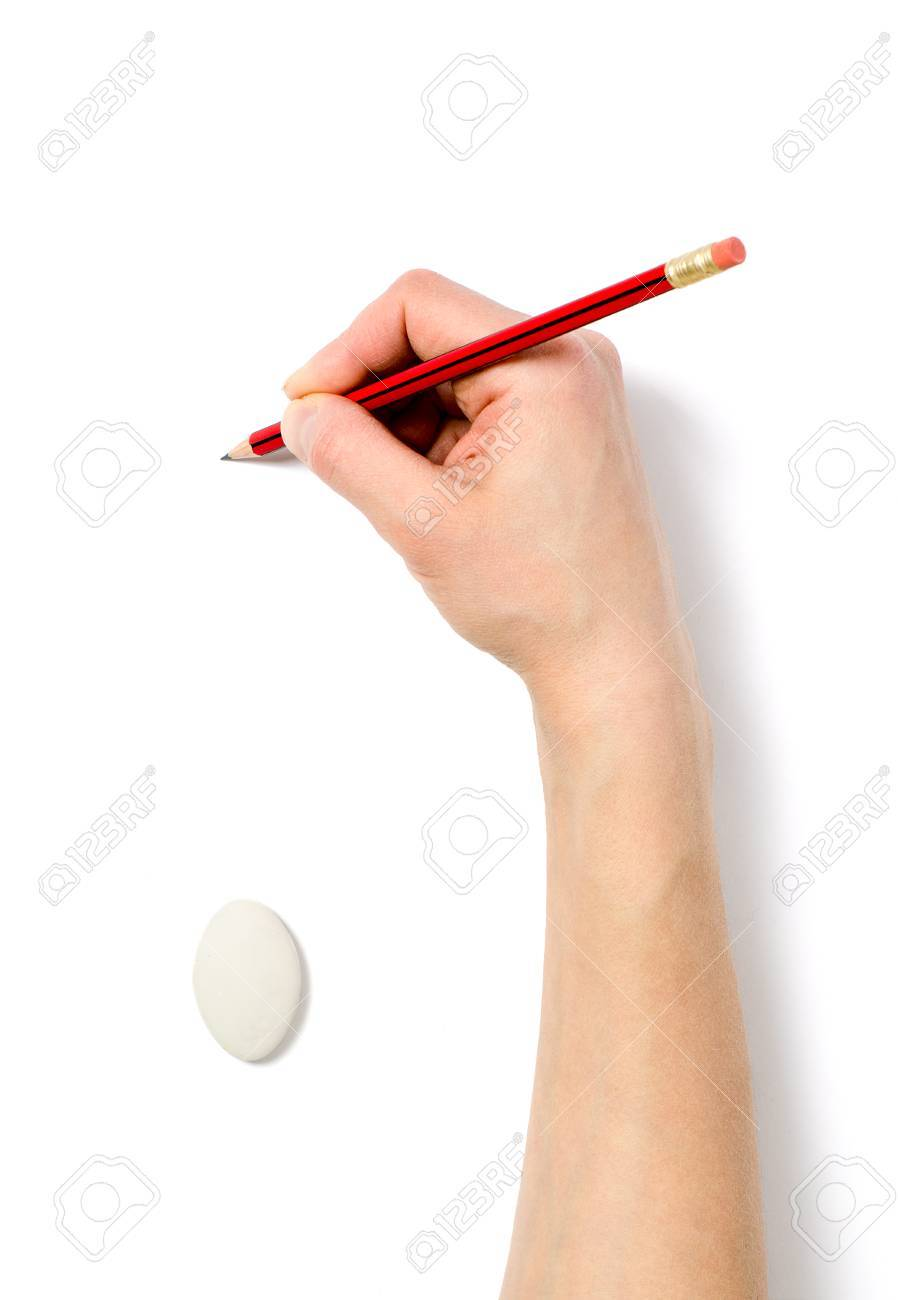finger: (270, 270, 536, 403)
